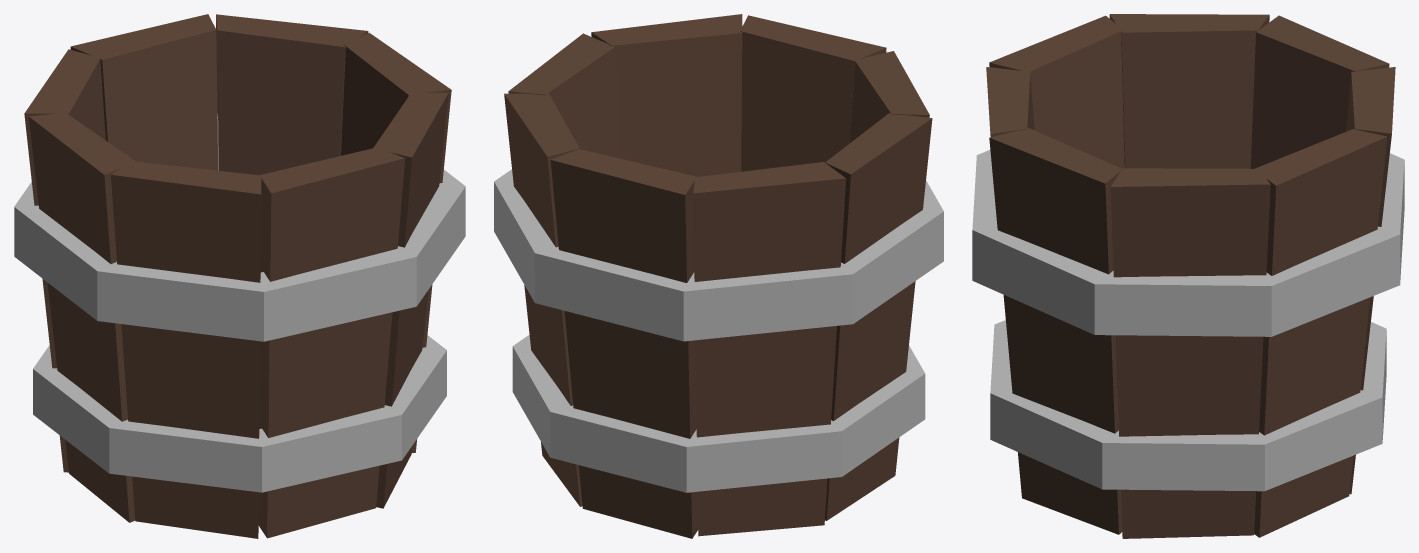
Rendered from Tub.fbx.
The picture shows the model from 3 angles, left to right: view 1: azimuth 30°, elevation 25°; view 2: azimuth 150°, elevation 25°; view 3: azimuth 270°, elevation 25°; orthographic projection.
Parts seen in each view (by area): view 1: Tub; view 2: Tub; view 3: Tub.
Part boxes in pixels (x1=…): Tub: x1=14, y1=14, x2=465, y2=538; Tub: x1=494, y1=14, x2=943, y2=538; Tub: x1=972, y1=14, x2=1404, y2=538.
Size of the model in its own units: 57.98 by 54.41 by 57.98.
